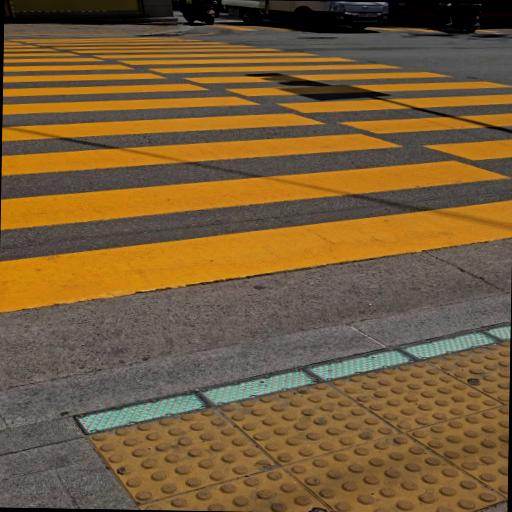yellow-crosswalk: (0, 28, 512, 341)
